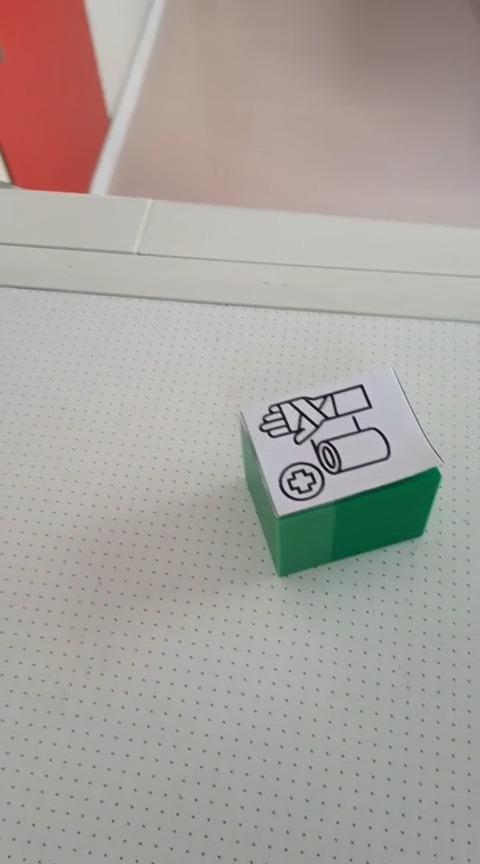Bandages: (239, 367, 444, 577)
